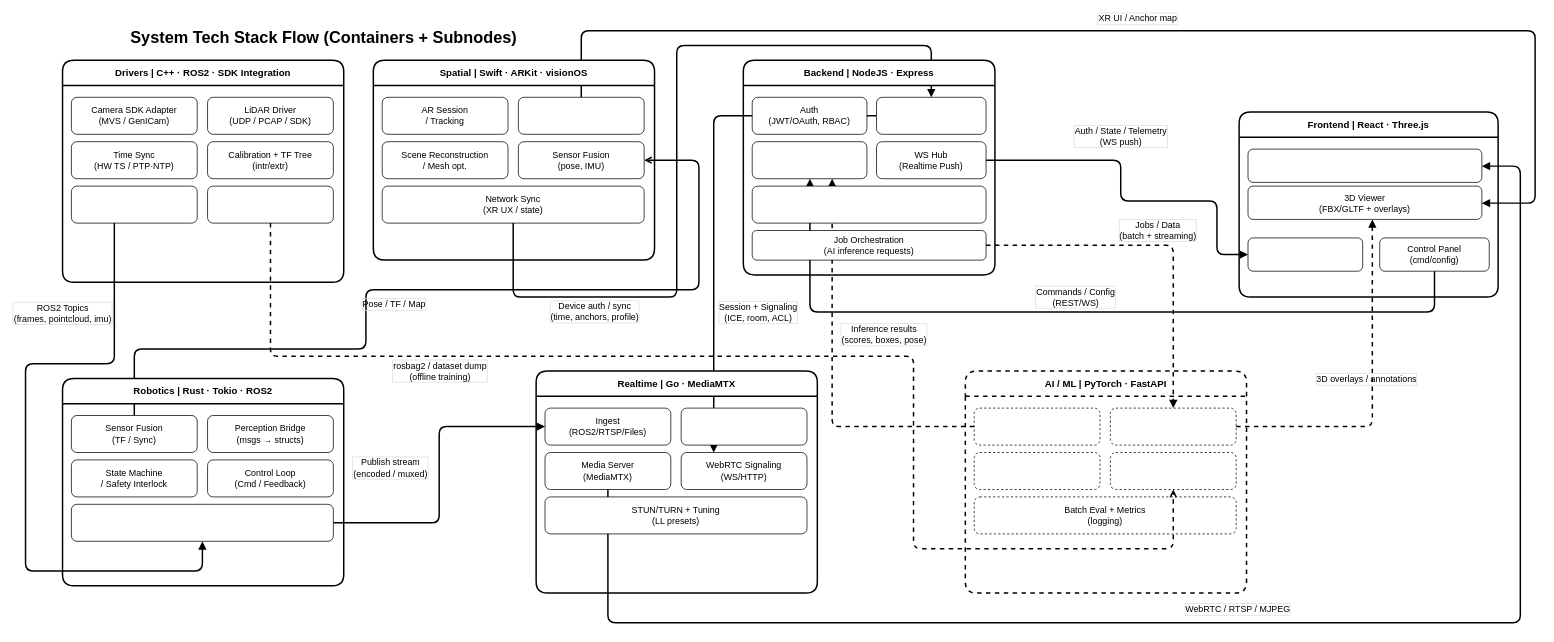
Image size: 1554x642. Some labels were removed from this diagram. The centre of each missing label's shape, as x and y in pixels:
"Anchors + Persistence (world map)" goes at [581,115].
"API Gateway (REST)" goes at [809,160].
"Device Registry / Session Manager" goes at [931,115].
"Encode (H264/H265)" goes at [743,426].
"Inference Service (FastAPI / gRPC)" goes at [1173,426].
"Metadata/Telemetry Store (DB)" goes at [868,204].
"Model Registry / Versioning" goes at [1036,471].
"Pre/Post Processing (NMS, smoothing)" goes at [1036,426].
"ROS2 Executor + Async Pipelines" goes at [202,522].
"ROS2 I/O (Topics, QoS)" goes at [134,204].
"rosbag2 Recorder (offline dump)" goes at [270,204].
"Telemetry Dashboard (Charts)" goes at [1305,254].
"Training Pipeline (offline)" goes at [1173,471].
"WebRTC Player / Stream Monitor" goes at [1364,165].
